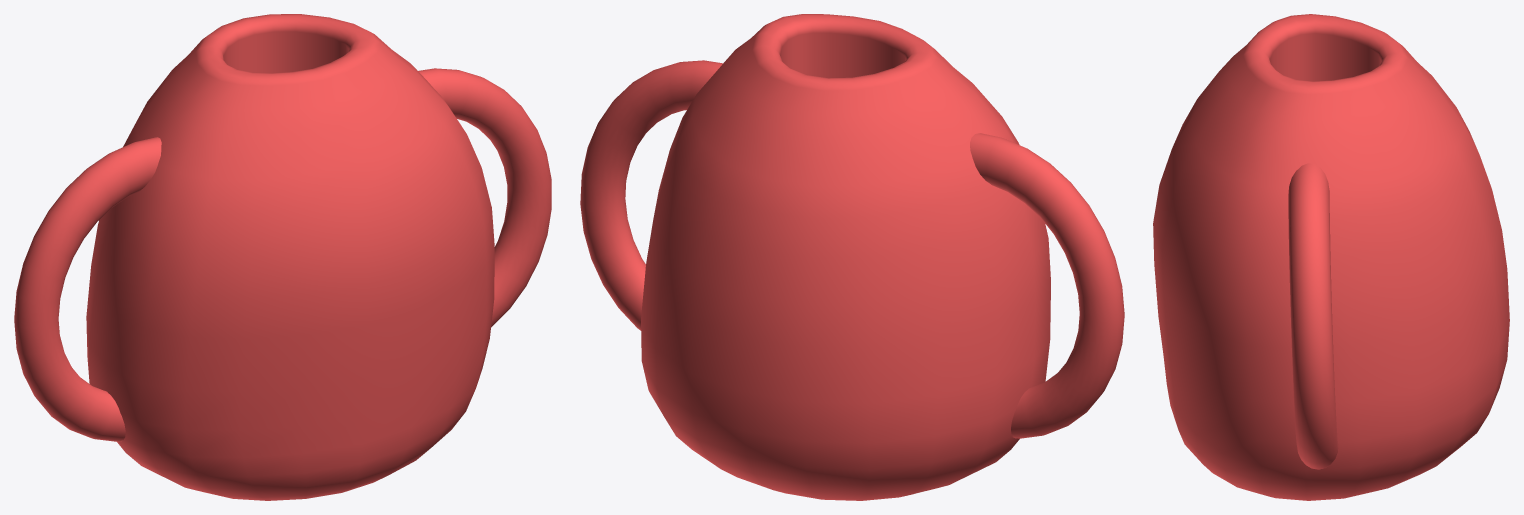
The model's file is Renown_simplejug2.fbx.
The picture shows the model from 3 angles, left to right: view 1: azimuth 30°, elevation 25°; view 2: azimuth 150°, elevation 25°; view 3: azimuth 270°, elevation 25°; orthographic projection. The views are drawn at different scales.
Visible parts, largest first — view 1: JUG_2; view 2: JUG_2; view 3: JUG_2.
Boxes of the visible parts, box(x1,y1,x2,y2) form: JUG_2: box(14, 14, 551, 500); JUG_2: box(580, 14, 1124, 500); JUG_2: box(1153, 14, 1509, 500).
Size of the model in its own units: 47.2 by 35.33 by 27.81.
